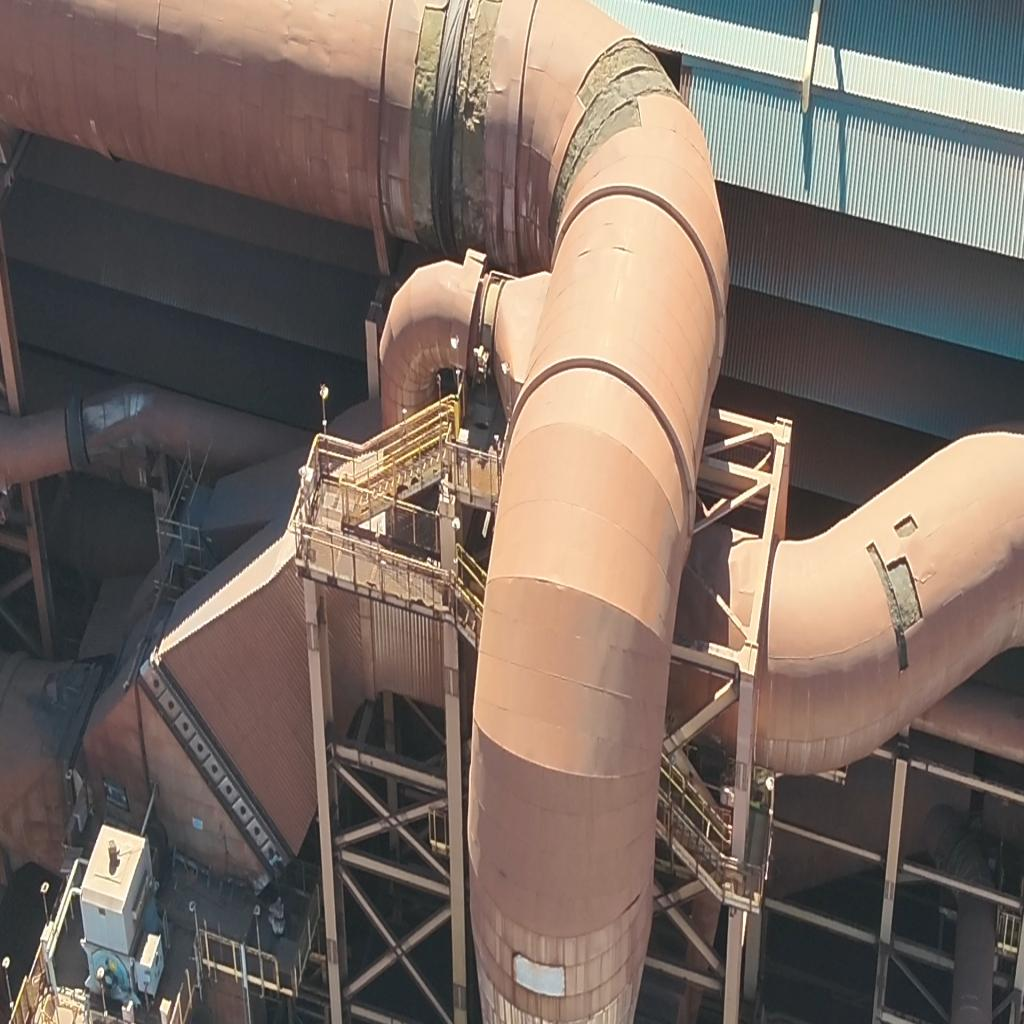Failures: (548, 40, 682, 172), (457, 0, 499, 240), (862, 540, 926, 672), (415, 0, 442, 247), (894, 495, 916, 550)
